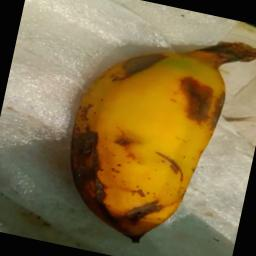Banana Overripe: (45, 4, 256, 256)
